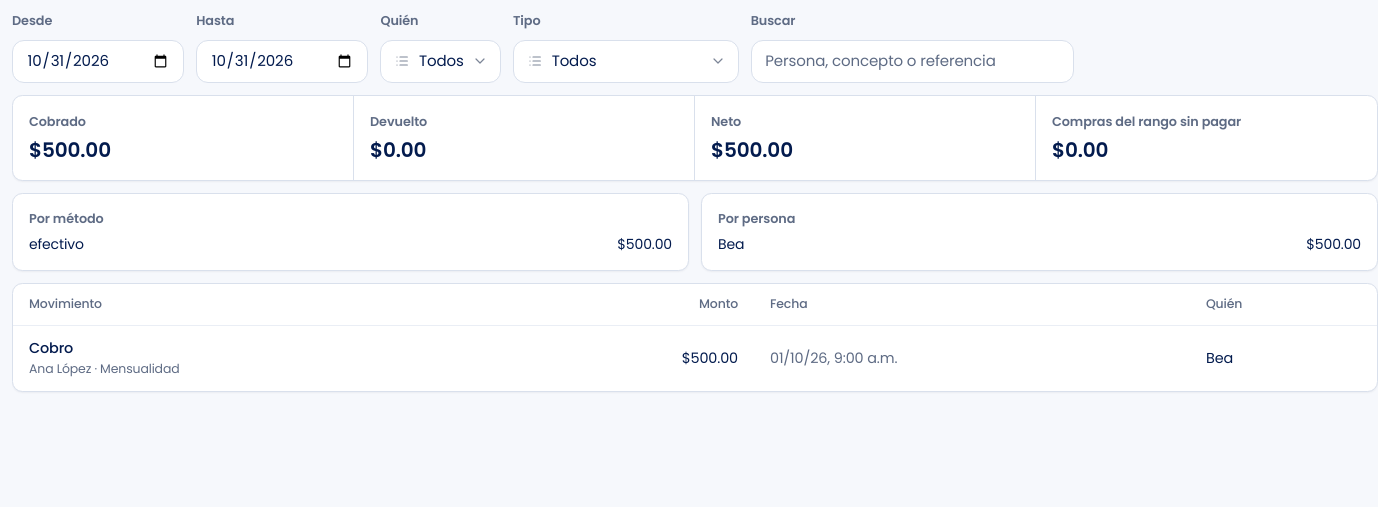
Scenario: estados del corte de caja › una búsqueda sin resultados dice que nada coincide y se limpia
This screenshot has width=1378, height=507.
Type "zzz" into the search field labelled "Buscar".
click(912, 61); type("zzz")  # box [751, 40, 1074, 83]
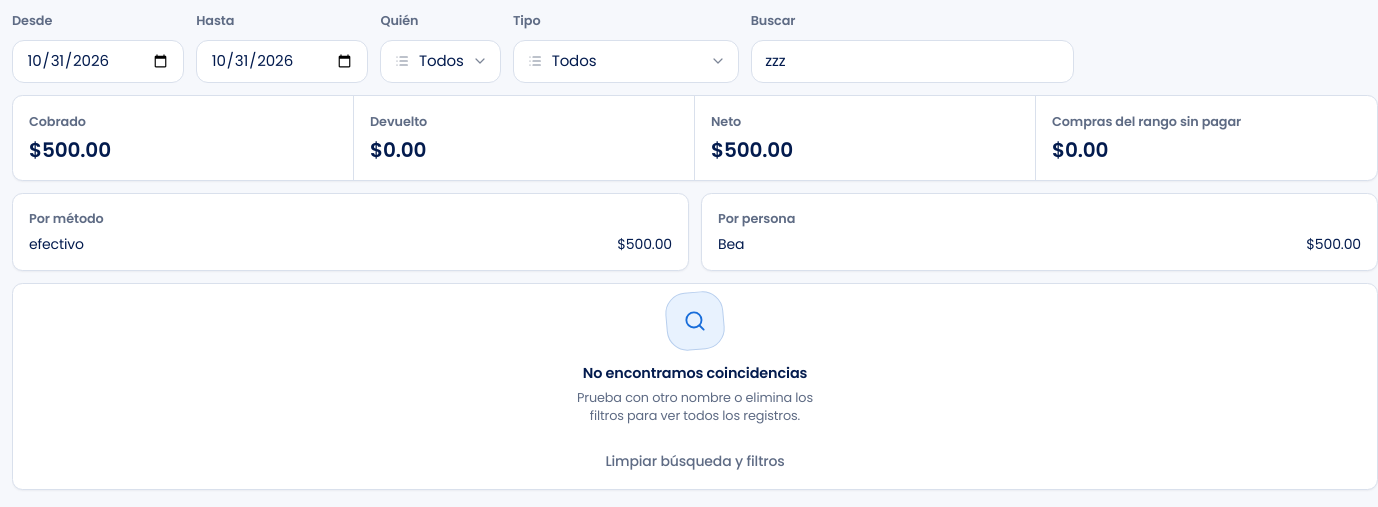
expect the element that starts with "No encontramos coincidencias" is shown: met, box [583, 363, 807, 383]
Click the button "Limpiar búsqueda y filtros".
click(695, 461)  # box [595, 441, 795, 481]
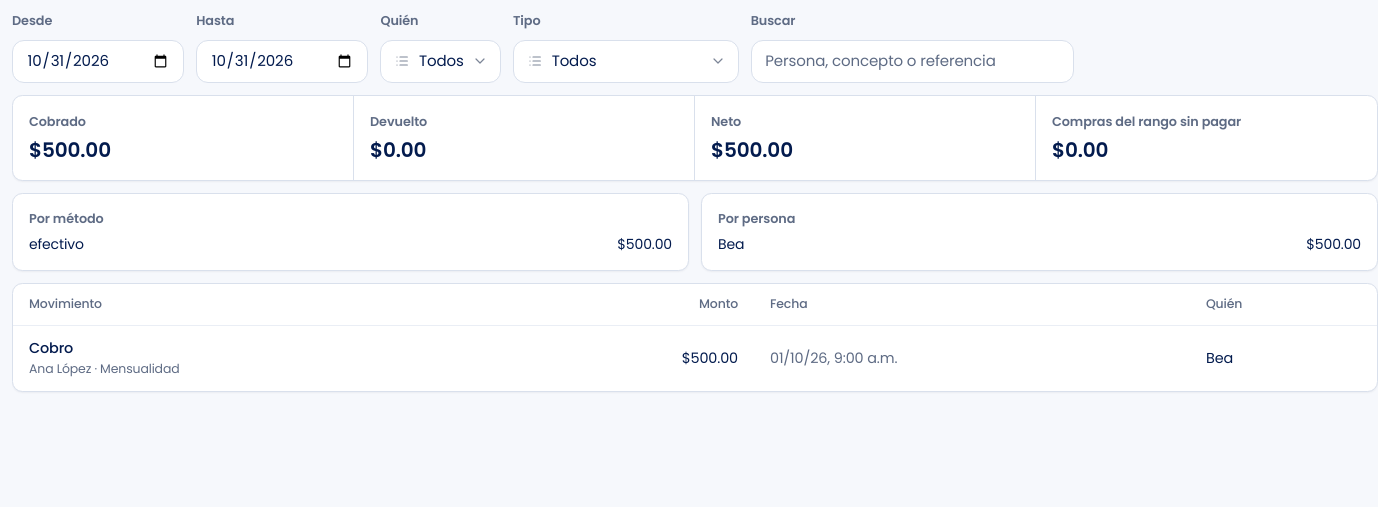
expect the search field labelled "Buscar" is empty: met, box [751, 40, 1074, 83]
expect the text "Mensualidad" is shown: met, box [29, 360, 180, 377]
